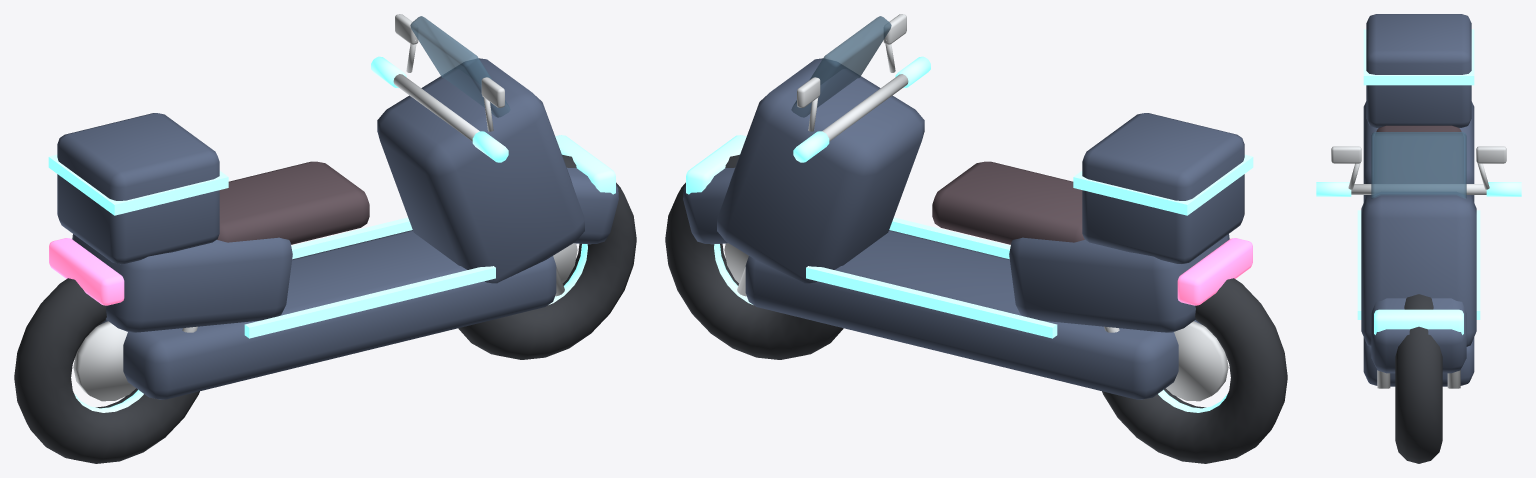
File: cyber_scooter.glb
3 views of the same model, side by side, from view 1: azimuth 30°, elevation 25°; view 2: azimuth 150°, elevation 25°; view 3: azimuth 270°, elevation 25° (orthographic). The views are drawn at different scales.
Parts seen in each view (by area): view 1: FrontCowling, ScooterDeck, CourierBox, Tire_-0.78, RearTailCowling, Tire_0.86, Saddle, SideNeon_-0.23, BrakeDisc_-0.78, Windscreen, TailLED, CourierStrip (+5 smaller); view 2: FrontCowling, ScooterDeck, CourierBox, Tire_-0.78, RearTailCowling, Tire_0.86, Saddle, SideNeon_0.23, BrakeDisc_-0.78, Windscreen, TailLED, CourierStrip (+5 smaller); view 3: FrontCowling, CourierBox, Tire_0.86, Windscreen, Saddle, NoseBeak, HeadlightLED, CourierStrip, RearTailCowling, Handlebar, ScooterDeck, SideNeon_0.23 (+7 smaller).
Part boxes in pixels (x1,y1,x2,y2): FrontCowling: [377, 58, 584, 283]; ScooterDeck: [100, 230, 556, 399]; CourierBox: [57, 113, 219, 264]; Tire_-0.78: [14, 278, 199, 463]; RearTailCowling: [72, 234, 292, 332]; Tire_0.86: [458, 154, 636, 359]; Saddle: [217, 161, 369, 244]; SideNeon_-0.23: [244, 266, 495, 338]; BrakeDisc_-0.78: [73, 321, 135, 401]; Windscreen: [410, 16, 510, 117]; TailLED: [49, 238, 124, 305]; CourierStrip: [48, 154, 228, 215]; FrontCowling: [717, 58, 924, 283]; ScooterDeck: [745, 230, 1201, 399]; CourierBox: [1082, 113, 1244, 264]; Tire_-0.78: [1102, 278, 1287, 463]; RearTailCowling: [1009, 234, 1229, 332]; Tire_0.86: [665, 154, 843, 359]; Saddle: [932, 161, 1084, 244]; SideNeon_0.23: [806, 266, 1057, 338]; BrakeDisc_-0.78: [1166, 321, 1228, 401]; Windscreen: [791, 16, 891, 117]; TailLED: [1177, 238, 1252, 305]; CourierStrip: [1073, 154, 1253, 215]; FrontCowling: [1361, 192, 1476, 346]; CourierBox: [1366, 14, 1471, 127]; Tire_0.86: [1395, 294, 1442, 463]; Windscreen: [1371, 132, 1466, 198]; Saddle: [1374, 125, 1463, 183]; NoseBeak: [1371, 298, 1466, 373]; HeadlightLED: [1374, 309, 1463, 334]; CourierStrip: [1363, 29, 1474, 85]; RearTailCowling: [1363, 101, 1474, 202]; Handlebar: [1351, 184, 1486, 194]; ScooterDeck: [1363, 337, 1474, 386]; SideNeon_0.23: [1476, 210, 1480, 319].
Bounding box in the file's own units: 2.37 × 1.26 × 0.82.
